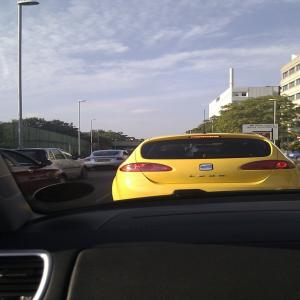Vehicle-registration-plate: (96, 160, 108, 163)
